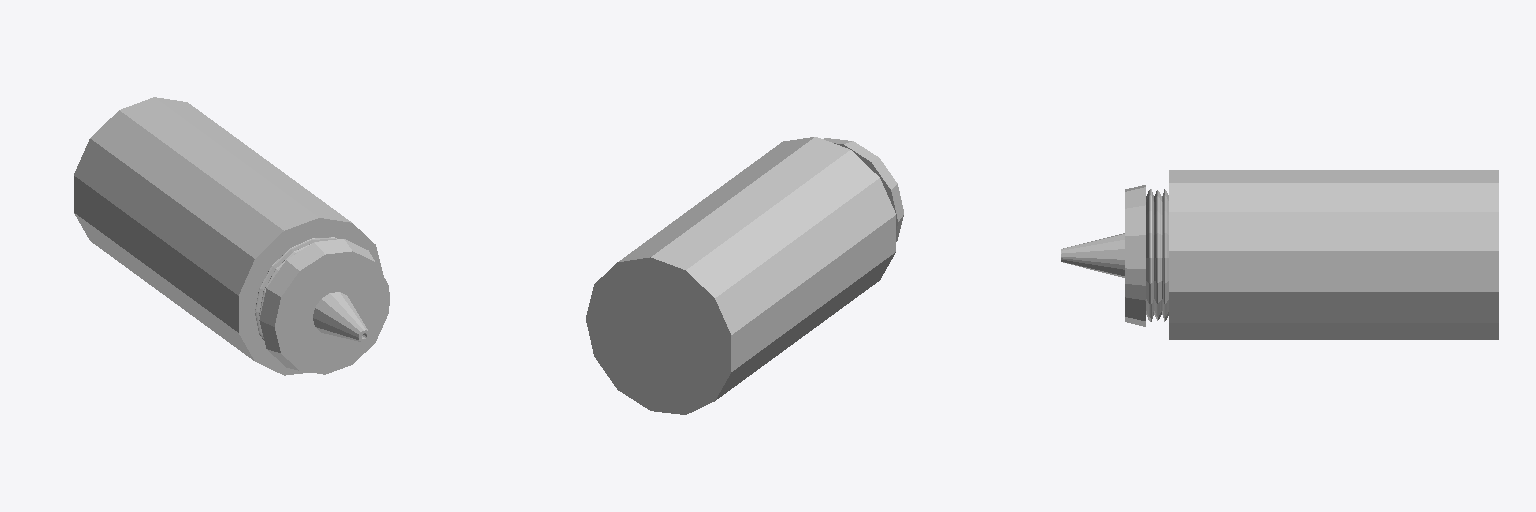
Rendered from Mostaza .obj.
The picture shows the model from 3 angles: view 1: azimuth 30°, elevation 25°; view 2: azimuth 150°, elevation 25°; view 3: azimuth 270°, elevation 25°; orthographic projection.
Visible parts, largest first — view 1: Mostaza_; view 2: Mostaza_; view 3: Mostaza_.
Part boxes in pixels (x1,y1,x2,y2): Mostaza_: (74,97,389,375); Mostaza_: (586,137,903,414); Mostaza_: (1061,170,1498,339).
Size of the model in its own units: 76.56 by 77.12 by 199.